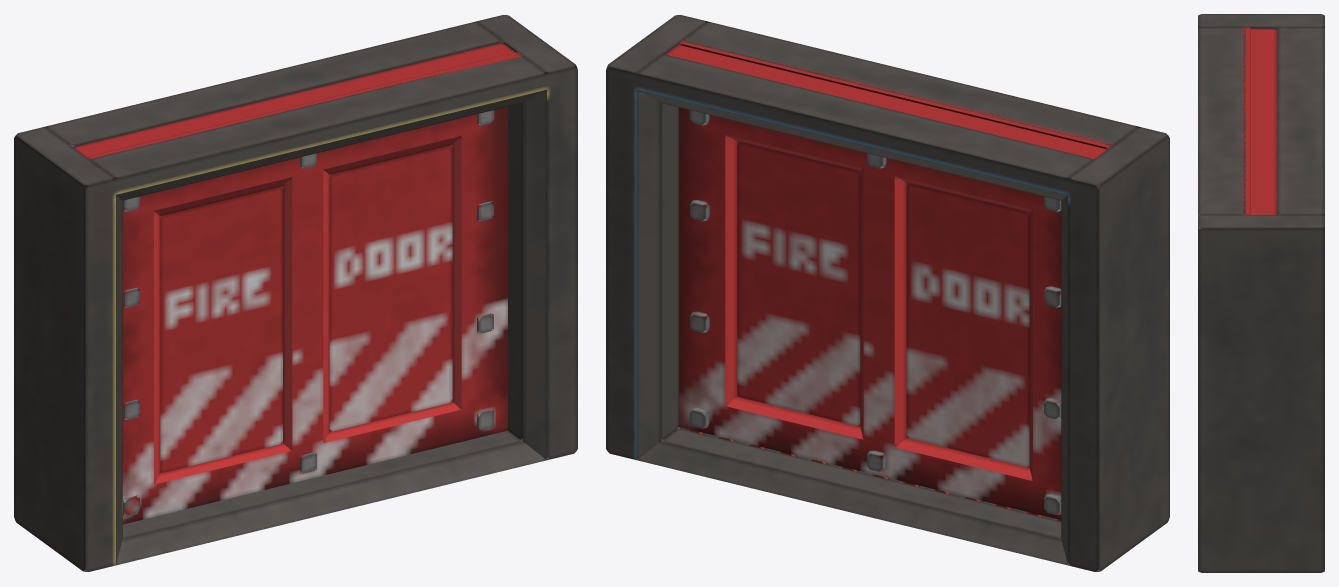
The model's file is fire_door.obj.
3 renders of one model, left to right at view 1: azimuth 30°, elevation 25°; view 2: azimuth 150°, elevation 25°; view 3: azimuth 270°, elevation 25°, orthographic. The views are drawn at different scales.
Visible parts, largest first — view 1: Door, Frame; view 2: Door, Frame; view 3: Frame, Door.
Part boxes in pixels (bbox=[...]): Door: bbox=[74, 43, 522, 524]; Frame: bbox=[14, 15, 577, 571]; Door: bbox=[665, 39, 1113, 521]; Frame: bbox=[606, 15, 1169, 571]; Frame: bbox=[1198, 14, 1324, 572]; Door: bbox=[1240, 27, 1277, 214].
Bounding box in the file's own units: 4 × 3 × 1.
